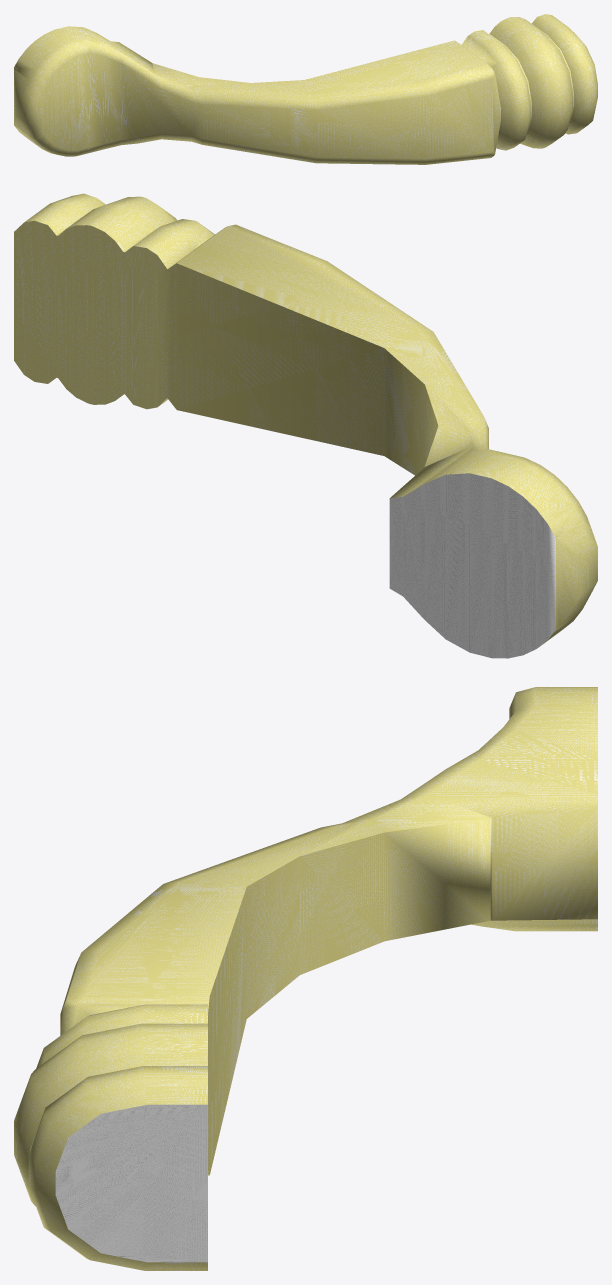
The model's file is original-37.obj.
3 renders of one model, top to bottom at view 1: azimuth 30°, elevation 25°; view 2: azimuth 150°, elevation 25°; view 3: azimuth 270°, elevation 25°, orthographic. The views are drawn at different scales.
Parts seen in each view (by area): view 1: mesh25/mesh25-geometry#mesh25-geometry; view 2: mesh25/mesh25-geometry#mesh25-geometry; view 3: mesh25/mesh25-geometry#mesh25-geometry.
Boxes of the visible parts, bbox=[...] form: mesh25/mesh25-geometry#mesh25-geometry: bbox=[14, 14, 597, 164]; mesh25/mesh25-geometry#mesh25-geometry: bbox=[14, 193, 597, 658]; mesh25/mesh25-geometry#mesh25-geometry: bbox=[14, 687, 597, 1270].
Bounding box in the file's own units: 0.127 × 0.0306 × 0.0737.
